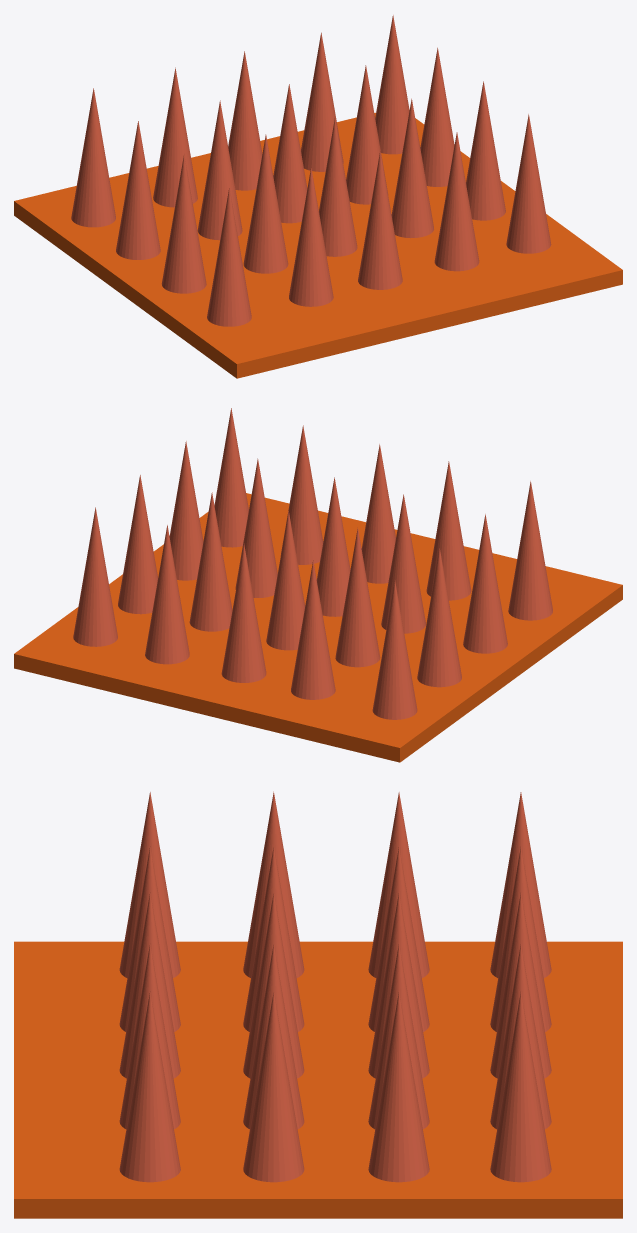
File: trap.fbx
3 renders of one model, top to bottom at view 1: azimuth 30°, elevation 25°; view 2: azimuth 150°, elevation 25°; view 3: azimuth 270°, elevation 25°, orthographic. The views are drawn at different scales.
Visible parts, largest first — view 1: Cube, Cone.018, Cone.019, Cone, Cone.011, Cone.015, Cone.010, Cone.016, Cone.017, Cone.005, Cone.013, Cone.014 (+9 smaller); view 2: Cube, Cone.010, Cone, Cone.002, Cone.006, Cone.015, Cone.003, Cone.001, Cone.004, Cone.005, Cone.008, Cone.009 (+9 smaller); view 3: Cube, Cone.014, Cone.019, Cone.009, Cone.004, Cone, Cone.005, Cone.010, Cone.015, Cone.017, Cone.007, Cone.002 (+9 smaller).
Boxes of the visible parts, bbox=[...] form: Cube: bbox=[14, 112, 622, 378]; Cone.018: bbox=[434, 132, 479, 271]; Cone.019: bbox=[506, 114, 551, 253]; Cone: bbox=[71, 88, 115, 227]; Cone.011: bbox=[243, 134, 288, 273]; Cone.015: bbox=[207, 187, 251, 326]; Cone.010: bbox=[161, 154, 206, 293]; Cone.016: bbox=[289, 167, 333, 306]; Cone.017: bbox=[358, 150, 402, 289]; Cone.005: bbox=[116, 121, 160, 259]; Cone.013: bbox=[391, 98, 433, 238]; Cone.014: bbox=[466, 81, 505, 220]; Cube: bbox=[14, 493, 622, 762]; Cone.010: bbox=[463, 514, 507, 653]; Cone: bbox=[372, 580, 417, 719]; Cone.002: bbox=[221, 543, 266, 682]; Cone.006: bbox=[335, 527, 380, 667]; Cone.015: bbox=[508, 481, 552, 620]; Cone.003: bbox=[145, 525, 189, 664]; Cone.001: bbox=[291, 560, 335, 699]; Cone.004: bbox=[73, 507, 117, 646]; Cone.005: bbox=[417, 548, 461, 687]; Cone.008: bbox=[189, 492, 232, 631]; Cone.009: bbox=[118, 475, 157, 614]; Cube: bbox=[14, 941, 622, 1218]; Cone.014: bbox=[243, 991, 304, 1182]; Cone.019: bbox=[119, 991, 180, 1182]; Cone.009: bbox=[368, 991, 429, 1182]; Cone.004: bbox=[490, 992, 551, 1182]; Cone: bbox=[490, 792, 551, 977]; Cone.005: bbox=[368, 792, 429, 977]; Cone.010: bbox=[243, 791, 304, 977]; Cone.015: bbox=[119, 792, 180, 977]; Cone.017: bbox=[119, 892, 180, 1078]; Cone.007: bbox=[368, 892, 429, 1078]; Cone.002: bbox=[490, 893, 551, 1078].
Size of the model in its own units: 1776 by 643 by 1776.
